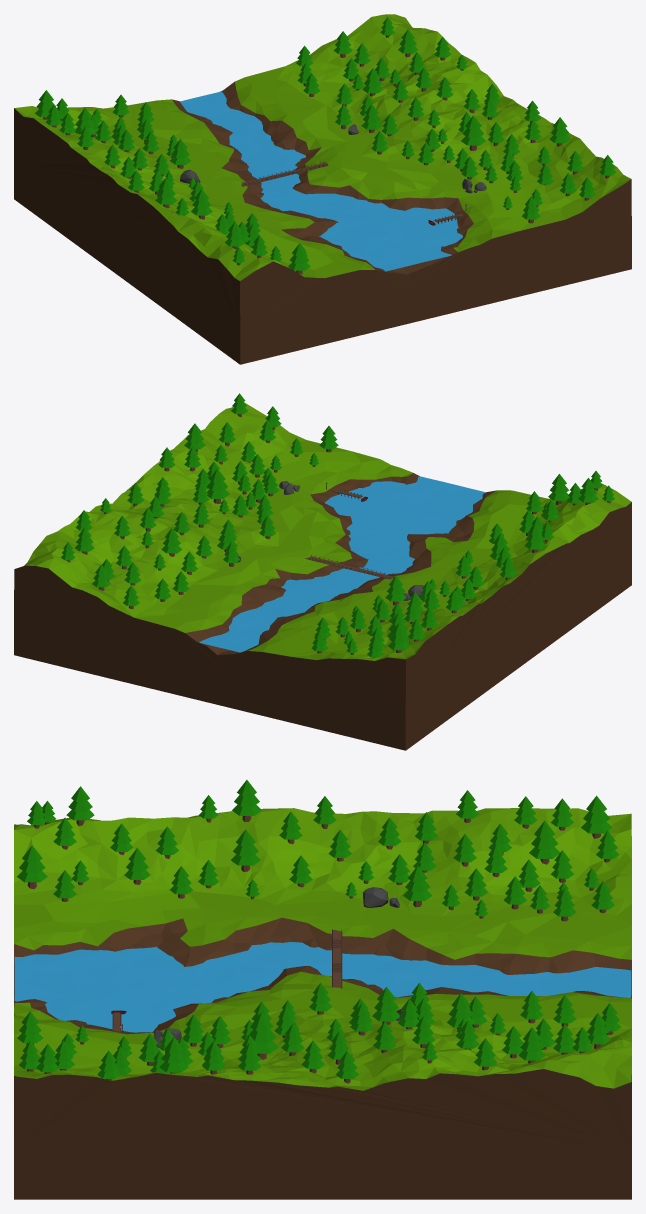
Rendered from uploads_files_3349551_Low+Poly+Forest+Scene+1.fbx.
3 views of the same model, one above another, from view 1: azimuth 30°, elevation 25°; view 2: azimuth 150°, elevation 25°; view 3: azimuth 270°, elevation 25° (orthographic). The views are drawn at different scales.
Parts seen in each view (by area): view 1: Terrain, Trees, Water; view 2: Terrain, Trees, Water; view 3: Terrain, Trees, Water, Wooden Bridge.
Boxes of the visible parts, x1=… form: Terrain: x1=14, y1=14, x2=631, y2=364; Trees: x1=35, y1=17, x2=616, y2=274; Water: x1=180, y1=91, x2=462, y2=271; Terrain: x1=14, y1=402, x2=631, y2=750; Trees: x1=61, y1=393, x2=614, y2=657; Water: x1=199, y1=476, x2=485, y2=652; Terrain: x1=14, y1=808, x2=631, y2=1199; Trees: x1=17, y1=780, x2=621, y2=1083; Water: x1=14, y1=942, x2=631, y2=1032; Wooden Bridge: x1=332, y1=929, x2=342, y2=988.
Bounding box in the file's own units: 1200 × 357 × 1200.
